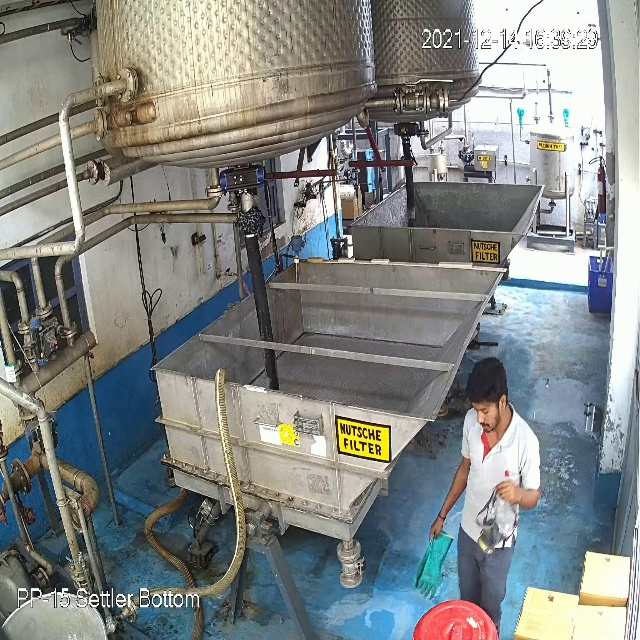Sin_gafas: (469, 403, 502, 423)
Sin_mascara: (475, 412, 501, 433)
